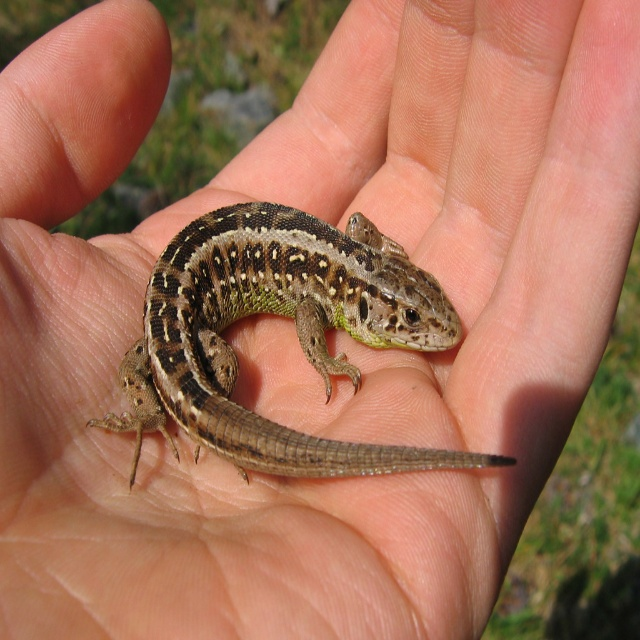Lizard: (97, 198, 501, 523)
